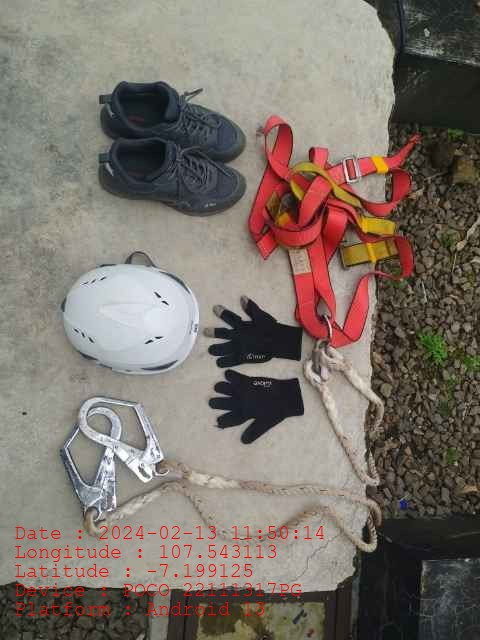HELM: (64, 263, 198, 375)
SARUNG_TANGAN: (200, 294, 304, 367), (209, 369, 304, 443)
SEPATU: (102, 79, 246, 217)
